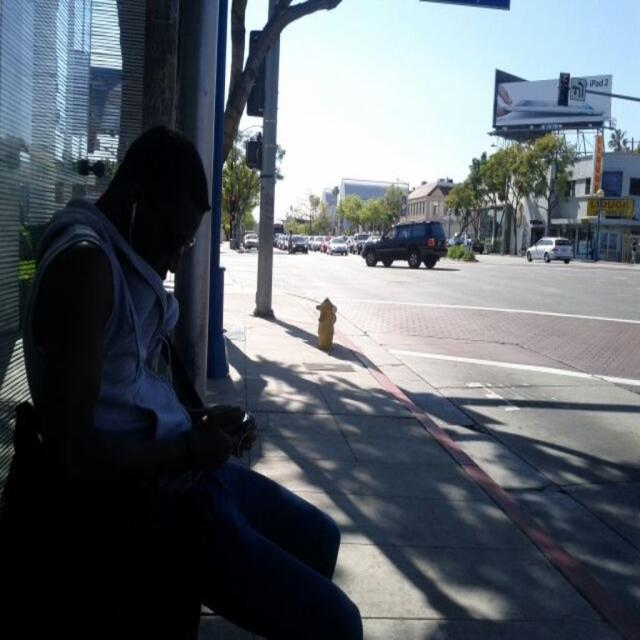car: (517, 226, 572, 266)
